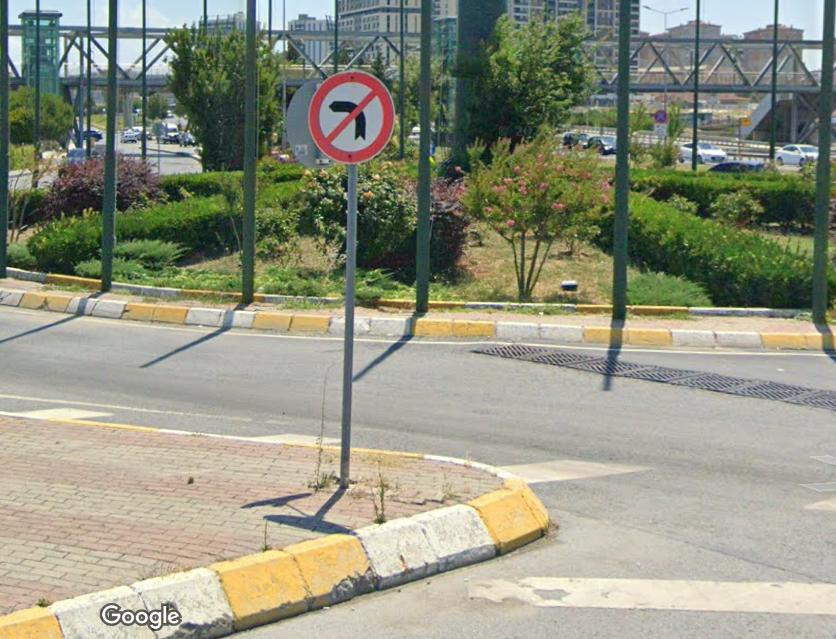leftturnsareforbidden: (315, 71, 394, 160)
